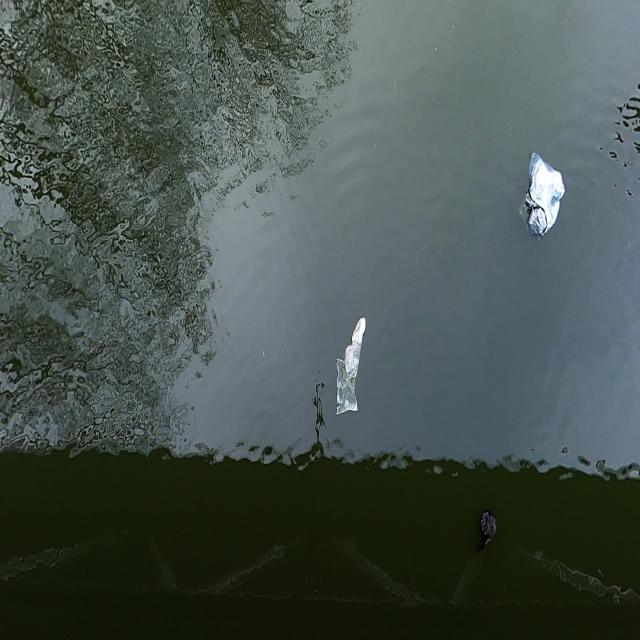Sac plastique: (519, 148, 565, 241), (333, 316, 365, 417), (474, 506, 502, 551)
